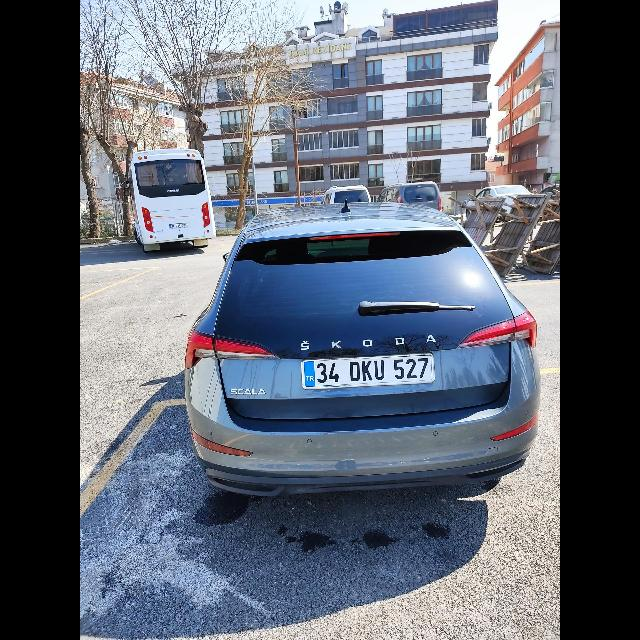Plaka: (306, 354, 434, 386)
